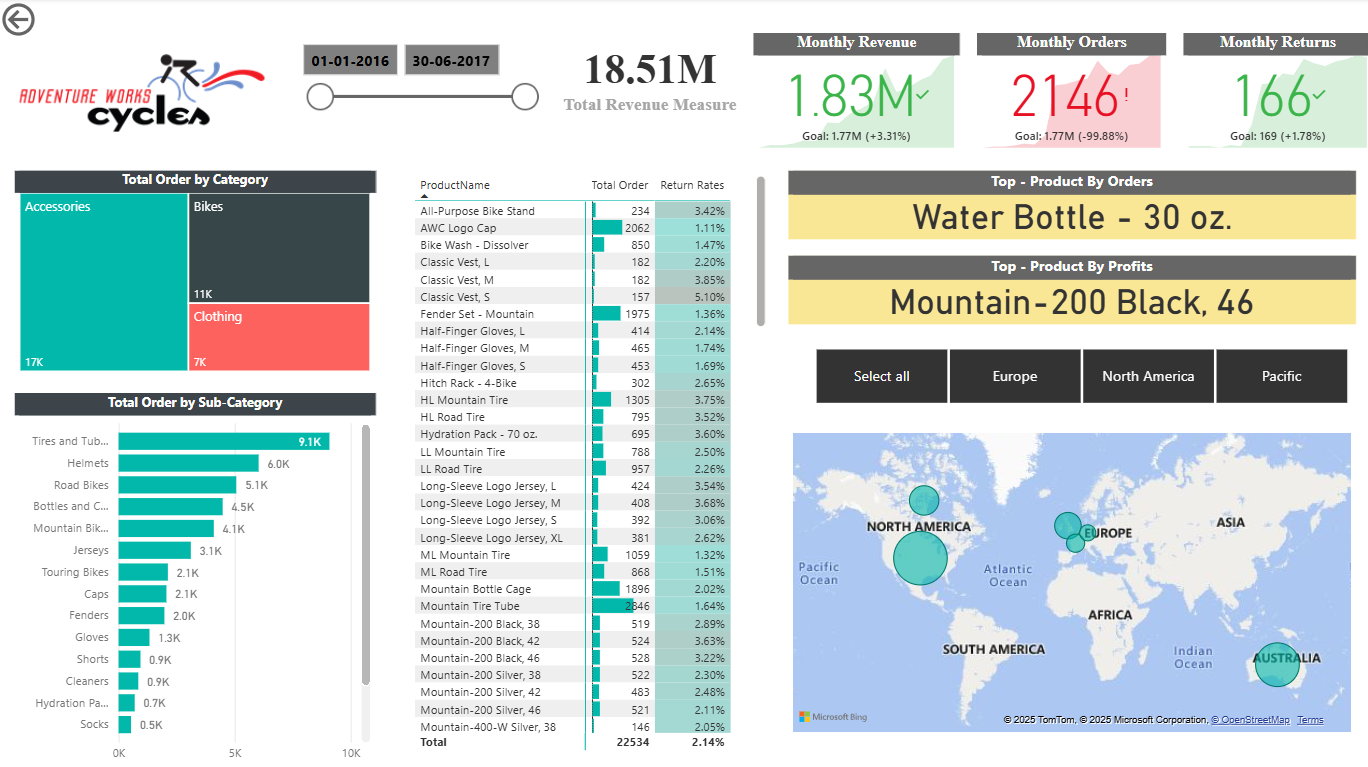

What the dashboard file says about the page in this screenshot:
{"tool":"powerbi","page":{"name":"Executive Summary","canvas":[1280,720],"ordinal":0},"visuals":[{"type":"actionButton","box":[0,0,100,40],"z":0},{"type":"treemap","title":"Total Order by Category","fields":{"Group":["AW_Product_Categories_Lookup.CategoryName"],"Values":["Sales.Total Order"]},"box":[16,160,336,192],"z":1000},{"type":"image","box":[16,16,240,144],"z":2000},{"type":"barChart","title":"Total Order by Sub-Category","fields":{"Y":["Sales.Total Order"],"Category":["AW_Product_Subcategories_Lookup.SubcategoryName"]},"box":[16,368,336,352],"z":3000},{"type":"slicer","fields":{"Values":["AW_Calendar_Lookup.Date"]},"box":[272,32,240,96],"z":4000},{"type":"pivotTable","fields":{"Rows":["AW_Product_Lookup.ProductName"],"Values":["Sales.Total Order","Returns.Return Rates"]},"box":[384,160,336,544],"z":5000},{"type":"card","fields":{"Values":["Sales.Total Revenue Measure"]},"box":[512,16,192,112],"z":6000},{"type":"kpi","title":"Monthly Revenue","fields":{"Indicator":["Sales.Total Revenue Measure"],"TrendLine":["AW_Calendar_Lookup.Start of Month"],"Goal":["AW_Calendar_Lookup.prev month revenue"]},"box":[704,32,192,112],"z":7000},{"type":"kpi","title":"Monthly Orders","fields":{"TrendLine":["AW_Calendar_Lookup.Start of Month"],"Goal":["AW_Calendar_Lookup.prev month revenue"],"Indicator":["Sales.Total Order"]},"box":[912,32,176,112],"z":8000},{"type":"kpi","title":"Monthly Returns","fields":{"TrendLine":["AW_Calendar_Lookup.Start of Month"],"Indicator":["Sales.Total Returns"],"Goal":["Returns.Prev Month Returns"]},"box":[1104,32,176,112],"z":9000},{"type":"card","title":"Top - Product By Orders","fields":{"Values":["Min(AW_Product_Lookup.ProductName)"]},"box":[736,160,528,64],"z":10000},{"type":"card","title":"Top - Product By Profits","fields":{"Values":["Min(AW_Product_Lookup.ProductName)"]},"box":[736,240,528,64],"z":11000},{"type":"map","fields":{"Category":["AW_Territory_Lookup.Country"],"Size":["Sales.Total Order"]},"box":[736,400,528,288],"z":12000},{"type":"slicer","fields":{"Values":["AW_Territory_Lookup.Continent"]},"box":[736,320,544,64],"z":13000}]}

Visuals, with their boxes in screenshot pixels (x1, y1, x2, y2), scaled from the page's 1280x720 canvas onto the 1368x767 screenshot:
actionButton: x1=0 y1=0 x2=107 y2=43
"Total Order by Category" treemap: x1=17 y1=170 x2=376 y2=375
image: x1=17 y1=17 x2=274 y2=170
"Total Order by Sub-Category" barChart: x1=17 y1=392 x2=376 y2=766
slicer - AW_Calendar_Lookup.Date: x1=291 y1=34 x2=547 y2=136
pivotTable - AW_Product_Lookup.ProductName x Sales.Total Order: x1=410 y1=170 x2=770 y2=750
card - Sales.Total Revenue Measure: x1=547 y1=17 x2=752 y2=136
"Monthly Revenue" kpi: x1=752 y1=34 x2=958 y2=153
"Monthly Orders" kpi: x1=975 y1=34 x2=1163 y2=153
"Monthly Returns" kpi: x1=1180 y1=34 x2=1367 y2=153
"Top - Product By Orders" card: x1=787 y1=170 x2=1351 y2=239
"Top - Product By Profits" card: x1=787 y1=256 x2=1351 y2=324
map - AW_Territory_Lookup.Country x Sales.Total Order: x1=787 y1=426 x2=1351 y2=733
slicer - AW_Territory_Lookup.Continent: x1=787 y1=341 x2=1367 y2=409
